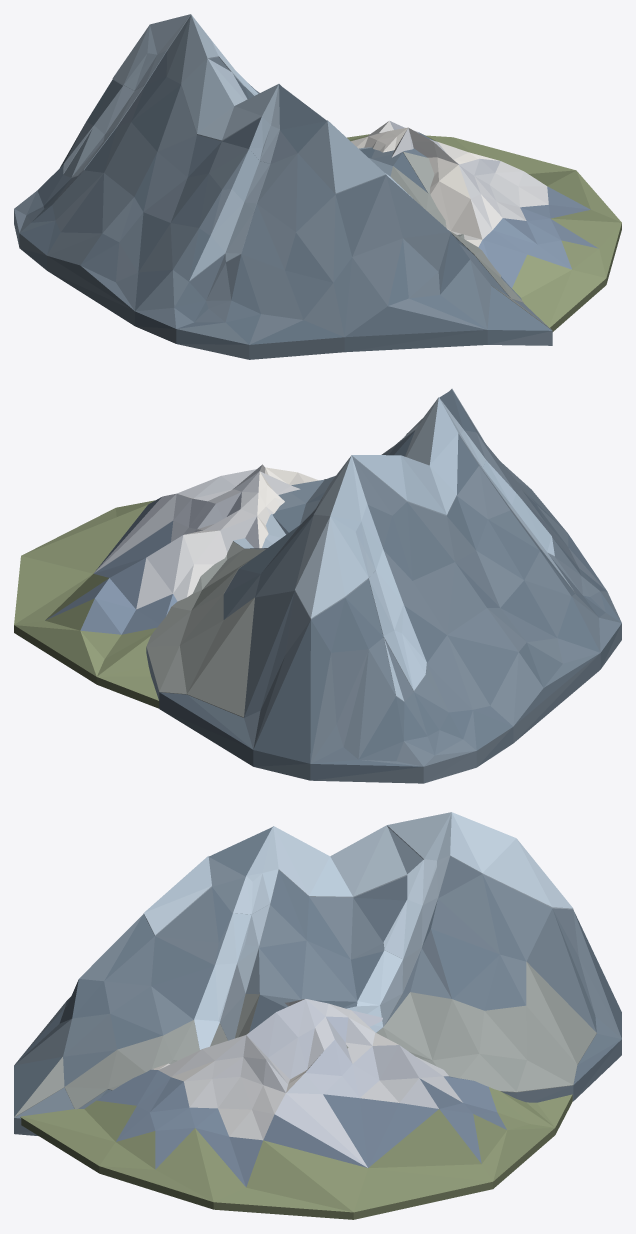
The model's file is massif_west_spur_rim53.glb.
3 renders of one model, top to bottom at view 1: azimuth 30°, elevation 25°; view 2: azimuth 150°, elevation 25°; view 3: azimuth 270°, elevation 25°, orthographic. The views are drawn at different scales.
Parts seen in each view (by area): view 1: ridge_shoulders, rock_body, snow_cap, snow_gully, shore_rock_apron; view 2: ridge_shoulders, rock_body, snow_cap, shore_rock_apron, snow_gully; view 3: rock_body, ridge_shoulders, shore_rock_apron, snow_cap, snow_gully.
Part boxes in pixels (x1=…): ridge_shoulders: x1=14, y1=15, x2=552, y2=359; rock_body: x1=347, y1=120, x2=621, y2=331; snow_cap: x1=112, y1=14, x2=386, y2=194; snow_gully: x1=63, y1=85, x2=412, y2=281; shore_rock_apron: x1=390, y1=151, x2=552, y2=330; ridge_shoulders: x1=146, y1=390, x2=621, y2=783; rock_body: x1=14, y1=464, x2=318, y2=708; snow_cap: x1=295, y1=388, x2=485, y2=619; shore_rock_apron: x1=146, y1=479, x2=325, y2=717; snow_gully: x1=233, y1=435, x2=575, y2=701; rock_body: x1=20, y1=999, x2=572, y2=1219; ridge_shoulders: x1=14, y1=827, x2=621, y2=1136; shore_rock_apron: x1=14, y1=961, x2=596, y2=1117; snow_cap: x1=143, y1=812, x2=573, y2=959; snow_gully: x1=194, y1=904, x2=422, y2=1049.
Bounding box in the file's own units: 742 × 325 × 750.
